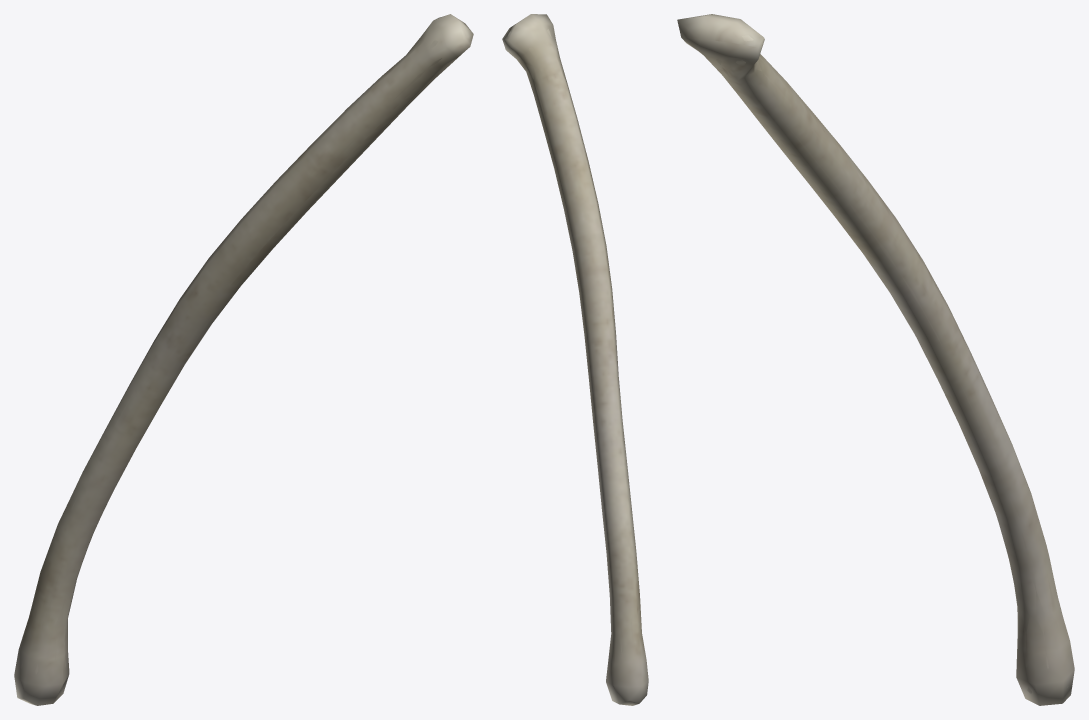
The model's file is Rib R08.fbx.
3 renders of one model, left to right at view 1: azimuth 30°, elevation 25°; view 2: azimuth 150°, elevation 25°; view 3: azimuth 270°, elevation 25°, orthographic. The views are drawn at different scales.
Parts seen in each view (by area): view 1: Rib R08 low, Rib R08; view 2: Rib R08 low, Rib R08; view 3: Rib R08 low, Rib R08.
Part boxes in pixels (x1=…): Rib R08 low: x1=14, y1=14, x2=473, y2=705; Rib R08: x1=21, y1=40, x2=453, y2=701; Rib R08 low: x1=502, y1=14, x2=648, y2=705; Rib R08: x1=508, y1=29, x2=644, y2=703; Rib R08 low: x1=677, y1=14, x2=1074, y2=705; Rib R08: x1=700, y1=35, x2=1067, y2=694.
Bounding box in the file's own units: 2.82 × 6.24 × 2.67.
Materials: 1 (1 with a texture image).
